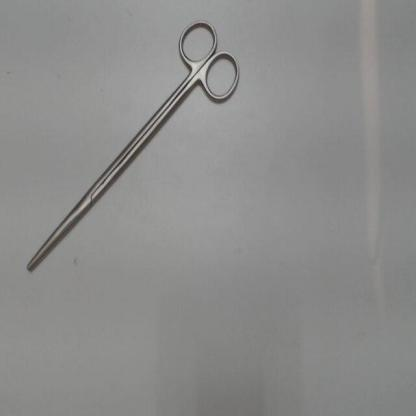9 Metzenbaum Scissors: (20, 13, 248, 279)
